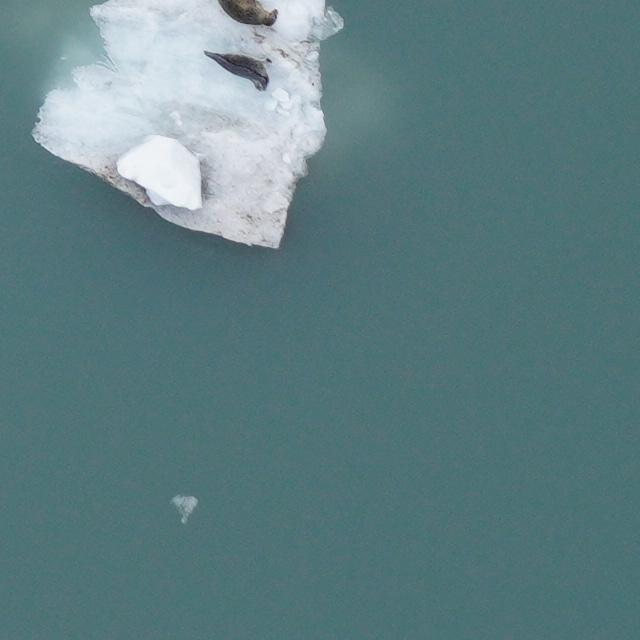seal: (197, 45, 277, 97), (214, 0, 284, 30)
